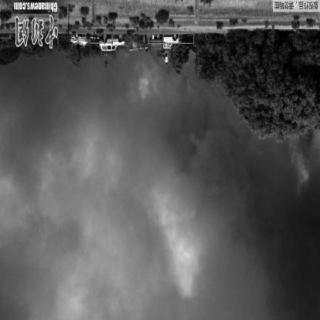Smoke: (7, 88, 304, 304)
